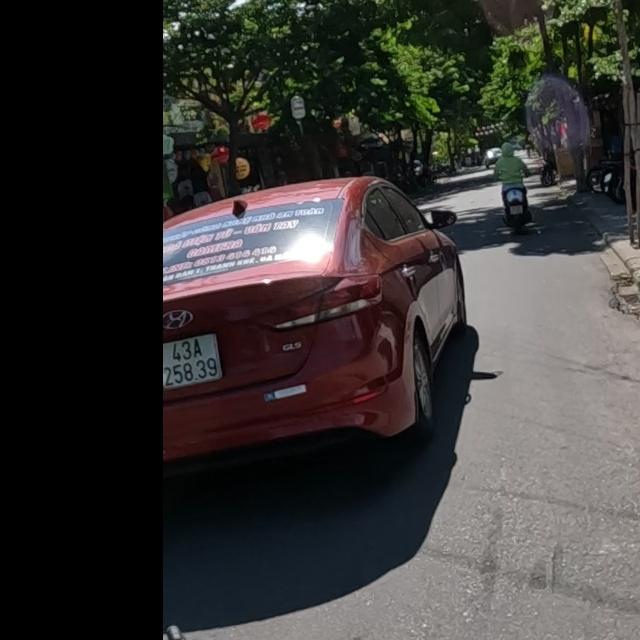license-plate: (162, 331, 224, 391)
